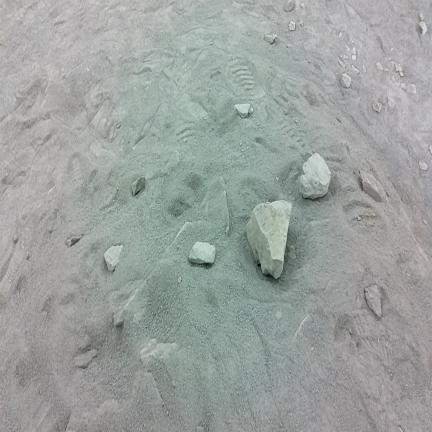Rock: (247, 201, 291, 278), (201, 177, 229, 234), (300, 153, 330, 199), (141, 339, 178, 366), (361, 171, 385, 202), (189, 242, 215, 263), (104, 245, 124, 271), (365, 285, 381, 316), (74, 350, 98, 368), (132, 177, 145, 195), (66, 234, 83, 247), (235, 104, 250, 118), (114, 309, 124, 327), (340, 73, 351, 88), (285, 0, 296, 12), (264, 34, 277, 44), (419, 21, 427, 35), (373, 102, 381, 112), (419, 161, 427, 170), (395, 63, 402, 72), (352, 65, 359, 74), (338, 60, 345, 68), (289, 22, 295, 31), (13, 235, 19, 244), (411, 84, 416, 93), (400, 83, 406, 90), (377, 63, 383, 70), (419, 13, 424, 20), (197, 426, 204, 431), (299, 20, 303, 27), (363, 65, 366, 72), (352, 55, 356, 60), (429, 146, 431, 154)
